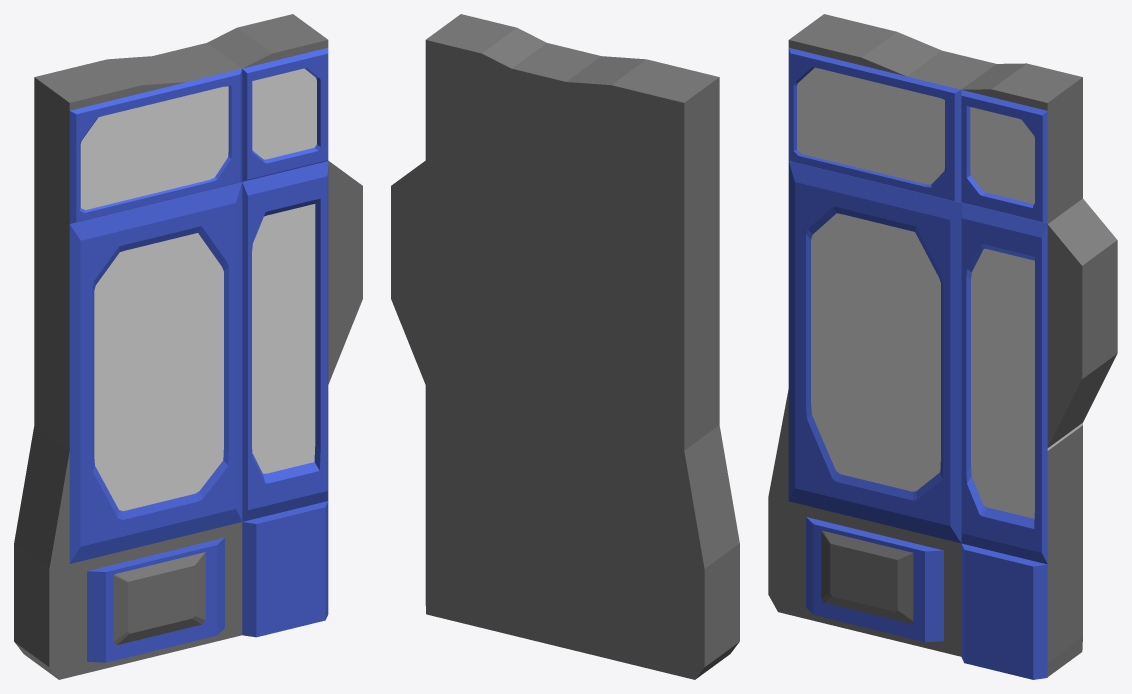
The model's file is Vending Machine.fbx.
The picture shows the model from 3 angles, left to right: view 1: azimuth 30°, elevation 25°; view 2: azimuth 150°, elevation 25°; view 3: azimuth 330°, elevation 25°; orthographic projection.
Visible parts, largest first — view 1: Vending Machine; view 2: Vending Machine; view 3: Vending Machine.
Boxes of the visible parts, x1,y1,x2,y2 form: Vending Machine: (14,14,362,679); Vending Machine: (391,14,739,679); Vending Machine: (768,14,1117,679).
Size of the model in its own units: 1258 by 2203 by 303.
